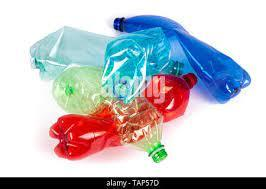plastic: (116, 17, 255, 101)
